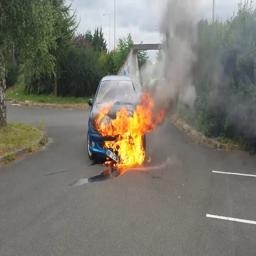fire: (95, 95, 166, 169)
